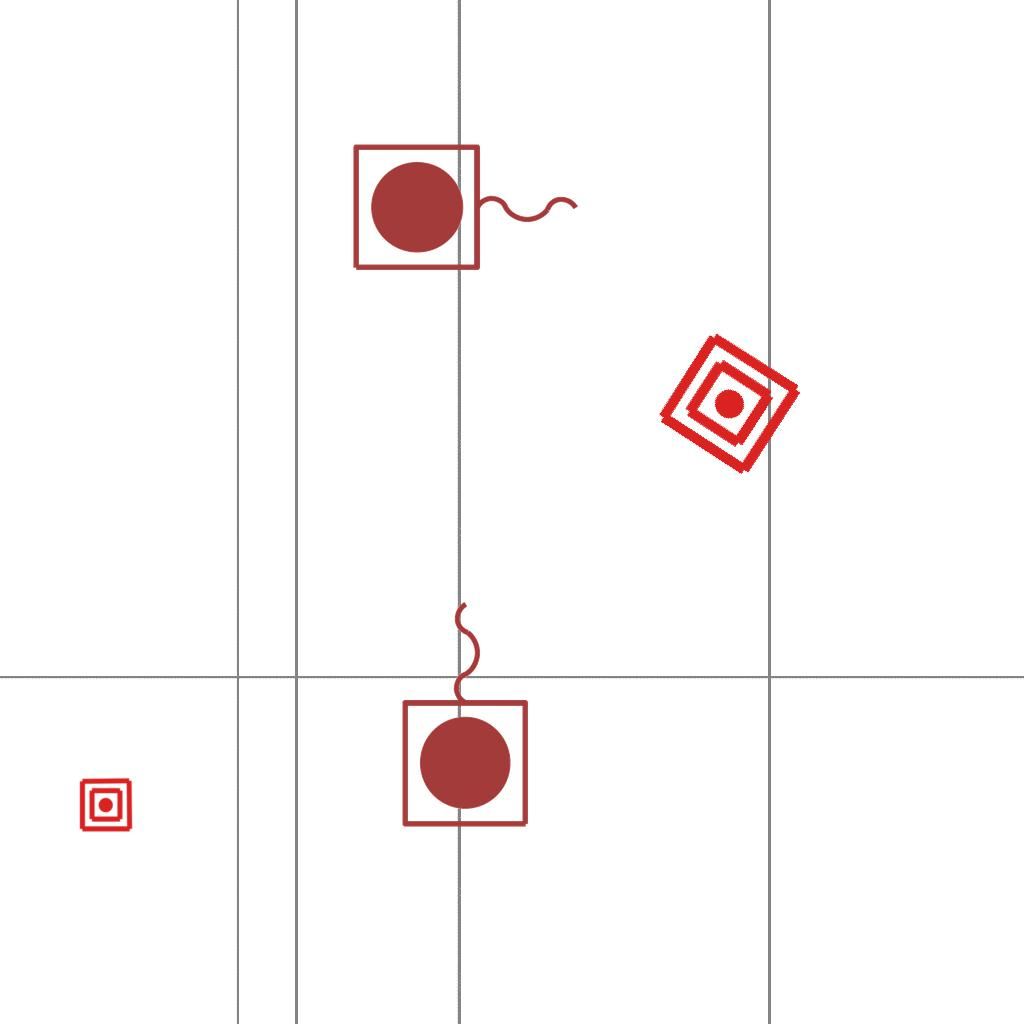NAM-Nichtautomatischer_Melder: (651, 325, 808, 482), (78, 777, 134, 833)
Zugtaster: (345, 137, 589, 281), (395, 591, 539, 835)
